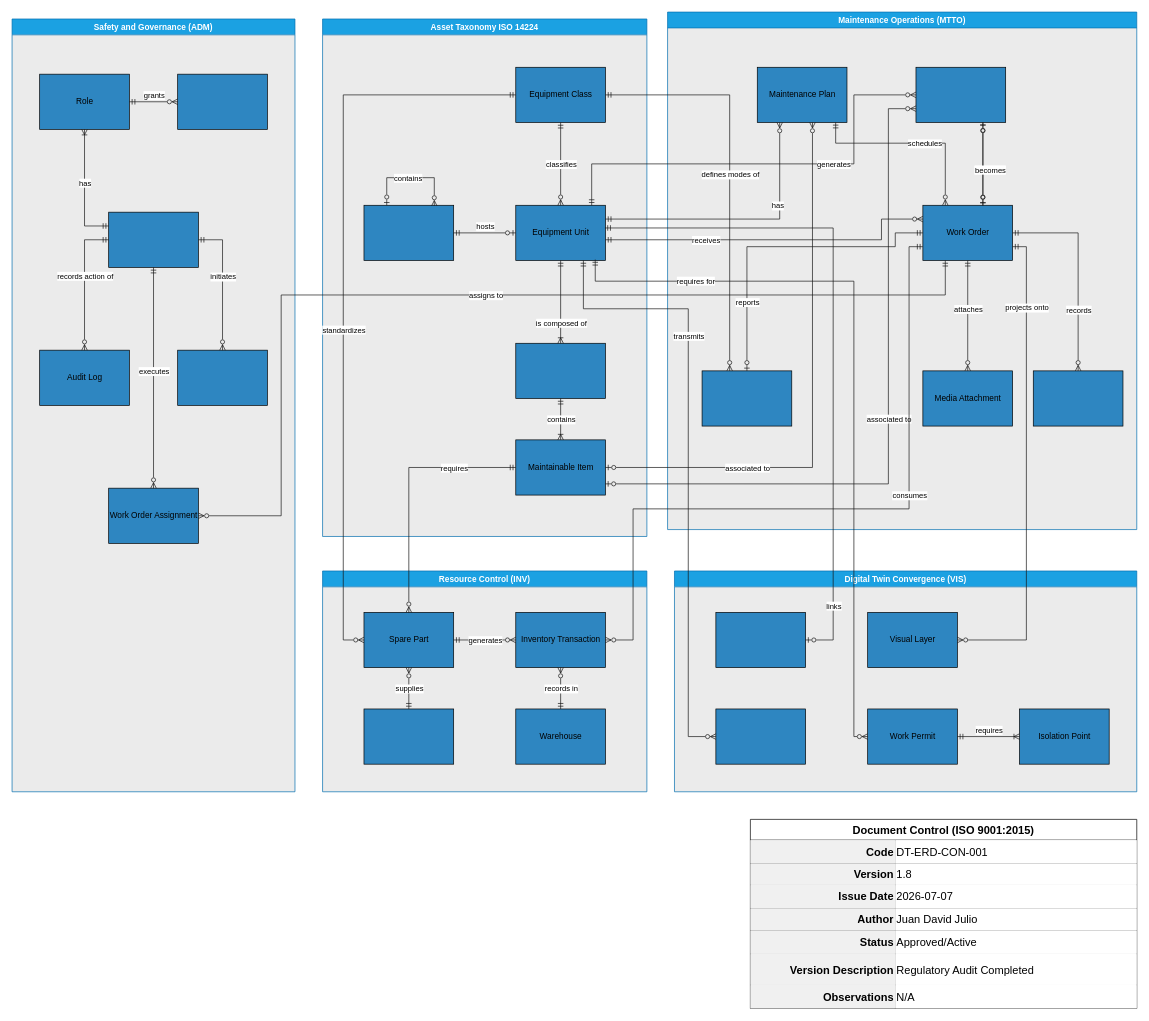
Some shapes in this 1149 by 1021 pixel diagram are drawn without their labels. The centre of each missing label's shape, as x and y in pixels:
"Auth Token" goes at point 222,377.
"Failure Record" goes at point 746,398.
"Functional Location" goes at point 408,232.
"Mesh Mapping" goes at point 760,640.
"Permission" goes at point 222,101.
"Subunit" goes at point 560,370.
"Supplier" goes at point 408,736.
"Telemetry Signal" goes at point 760,736.
"User" goes at point 153,239.
"Work Order History" goes at point 1078,398.
"Work Request" goes at point 960,94.
